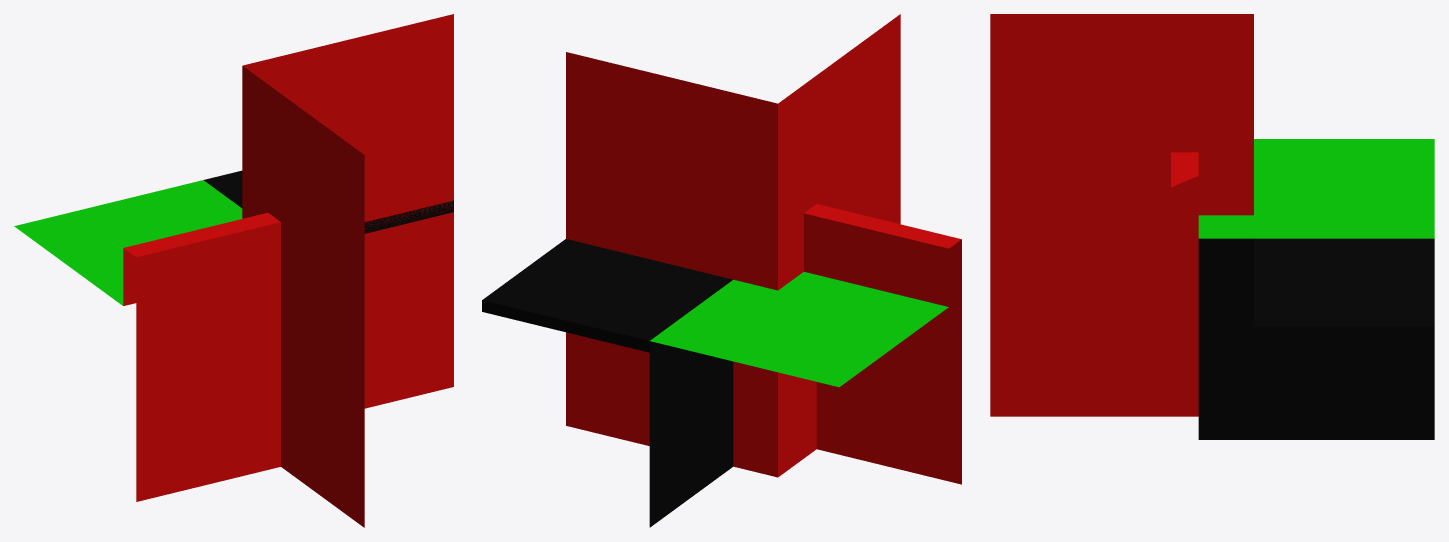
3 renders of one model, left to right at view 1: azimuth 30°, elevation 25°; view 2: azimuth 150°, elevation 25°; view 3: azimuth 270°, elevation 25°, orthographic. The views are drawn at different scales.
Visible parts, largest first — view 1: None_P_A_E_A_W_E_E_E_None; view 2: None_P_A_E_A_W_E_E_E_None; view 3: None_P_A_E_A_W_E_E_E_None.
Boxes of the visible parts, box(x1,y1,x2,y2) form: None_P_A_E_A_W_E_E_E_None: box(14, 14, 453, 527); None_P_A_E_A_W_E_E_E_None: box(482, 14, 961, 527); None_P_A_E_A_W_E_E_E_None: box(990, 14, 1434, 439).
Size of the model in its own units: 100 by 100 by 100.
